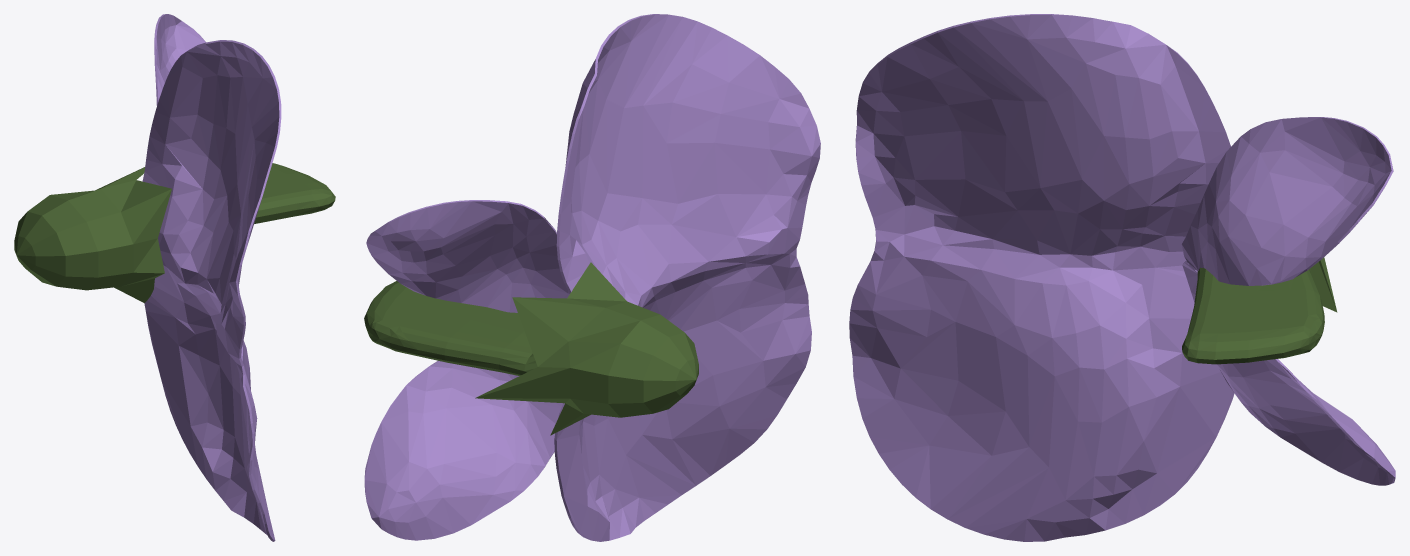
Rendered from CowpeaFlower_open_highres.obj.
3 views of the same model, side by side, from view 1: azimuth 30°, elevation 25°; view 2: azimuth 150°, elevation 25°; view 3: azimuth 270°, elevation 25° (orthographic). The views are drawn at different scales.
Parts seen in each view (by area): view 1: petal, sepal, Cube; view 2: petal, sepal, Cube; view 3: petal, Cube, sepal.
Boxes of the visible parts, <box> form: petal: <box>142,14,281,541</box>; sepal: <box>14,167,171,302</box>; Cube: <box>254,163,335,223</box>; petal: <box>364,14,820,541</box>; sepal: <box>475,262,698,435</box>; Cube: <box>364,281,537,375</box>; petal: <box>849,14,1395,541</box>; Cube: <box>1182,267,1324,364</box>; sepal: <box>1311,257,1337,312</box>.
Bounding box in the file's own units: 0.7647 × 1.12 × 1.04.
